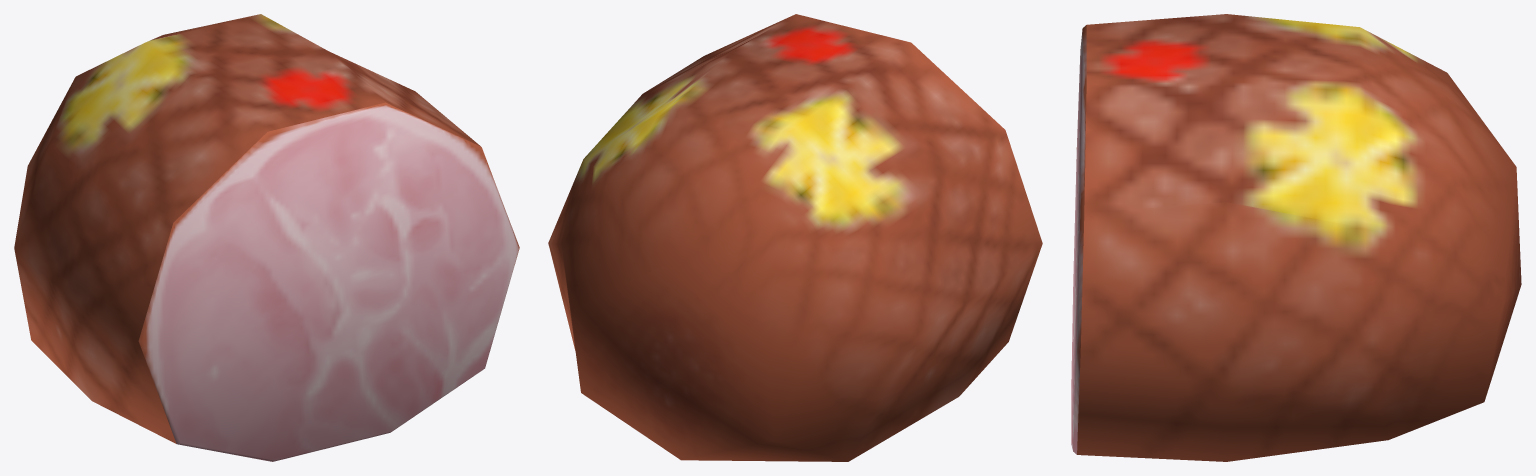
File: WorldItem_RumHam.fbx
The picture shows the model from 3 angles, left to right: view 1: azimuth 30°, elevation 25°; view 2: azimuth 150°, elevation 25°; view 3: azimuth 270°, elevation 25°; orthographic projection. The views are drawn at different scales.
Parts seen in each view (by area): view 1: Ham; view 2: Ham; view 3: Ham.
Boxes of the visible parts, <box> form: Ham: <box>14,14,519,461</box>; Ham: <box>548,14,1042,461</box>; Ham: <box>1071,14,1521,461</box>.
Bounding box in the file's own units: 40.63 × 32.59 × 36.15.
